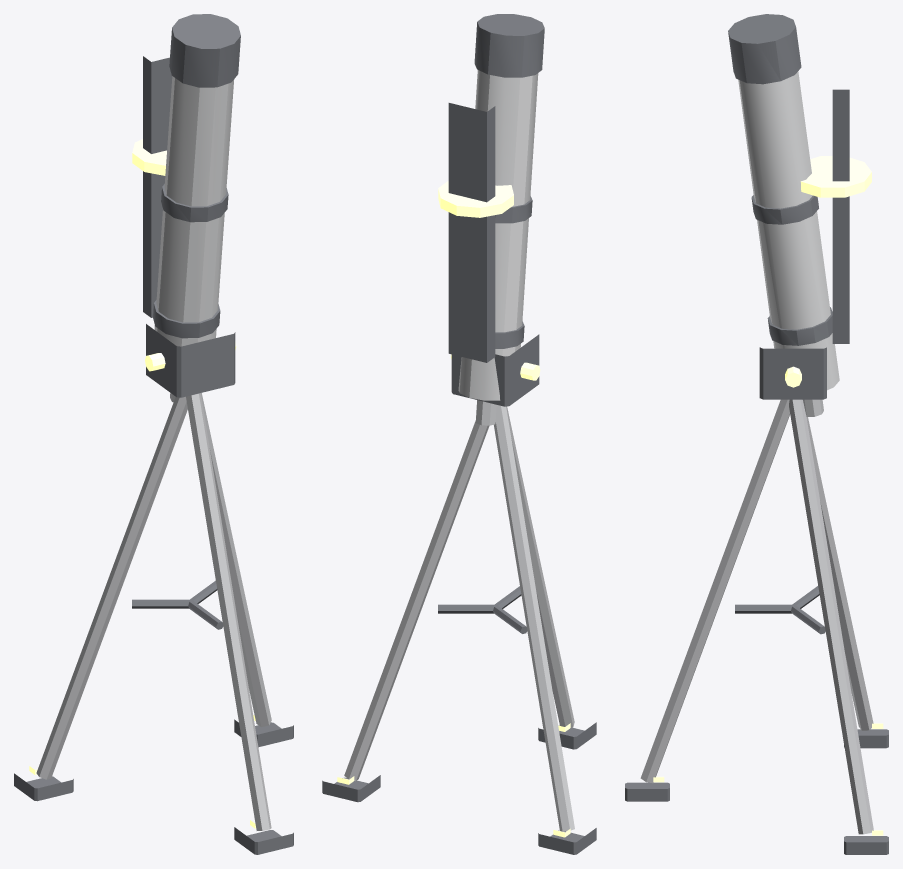
File: iter_05.glb
3 renders of one model, left to right at view 1: azimuth 30°, elevation 25°; view 2: azimuth 150°, elevation 25°; view 3: azimuth 270°, elevation 25°, orthographic.
Visible parts, largest first — view 1: Tripod_Legs, Tube, Stow_Cradle, Dew_Shield, Mount_Head, Floor_Clamps, Tube_Rings, Leg_Spreader, Cradle_Strap; view 2: Tripod_Legs, Stow_Cradle, Tube, Dew_Shield, Floor_Clamps, Mount_Head, Cradle_Strap, Leg_Spreader, Tube_Rings; view 3: Tripod_Legs, Tube, Dew_Shield, Stow_Cradle, Mount_Head, Floor_Clamps, Tube_Rings, Cradle_Strap, Leg_Spreader.
Part boxes in pixels (box(x1,y1,x2,y2)): Tripod_Legs: box(36, 393, 271, 830); Tube: box(154, 76, 234, 346); Stow_Cradle: box(143, 56, 172, 317); Dew_Shield: box(169, 14, 240, 87); Mount_Head: box(146, 324, 235, 397); Floor_Clamps: box(14, 719, 293, 854); Tube_Rings: box(153, 184, 228, 338); Leg_Spreader: box(132, 580, 223, 629); Cradle_Strap: box(132, 139, 166, 175); Tripod_Legs: box(344, 405, 574, 831); Stow_Cradle: box(448, 103, 495, 362); Tube: box(458, 70, 538, 400); Dew_Shield: box(474, 14, 544, 77); Floor_Clamps: box(322, 722, 596, 854); Mount_Head: box(451, 334, 539, 406); Cradle_Strap: box(438, 181, 513, 217); Leg_Spreader: box(438, 586, 527, 633); Tube_Rings: box(495, 196, 532, 348); Tripod_Legs: box(640, 399, 873, 834); Tube: box(738, 71, 839, 390); Dew_Shield: box(728, 14, 801, 84); Stow_Cradle: box(832, 89, 849, 343); Mount_Head: box(759, 347, 826, 399); Floor_Clamps: box(625, 729, 888, 854); Tube_Rings: box(751, 195, 832, 345); Cradle_Strap: box(800, 156, 871, 197); Leg_Spreader: box(735, 586, 825, 634).
Bounding box in the file's own units: 0.5303 × 1.51 × 0.47.
